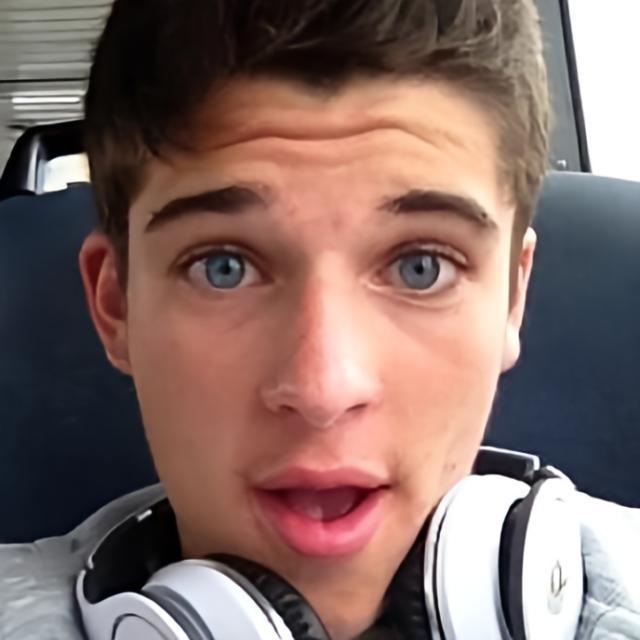surprise: (124, 57, 512, 640)
